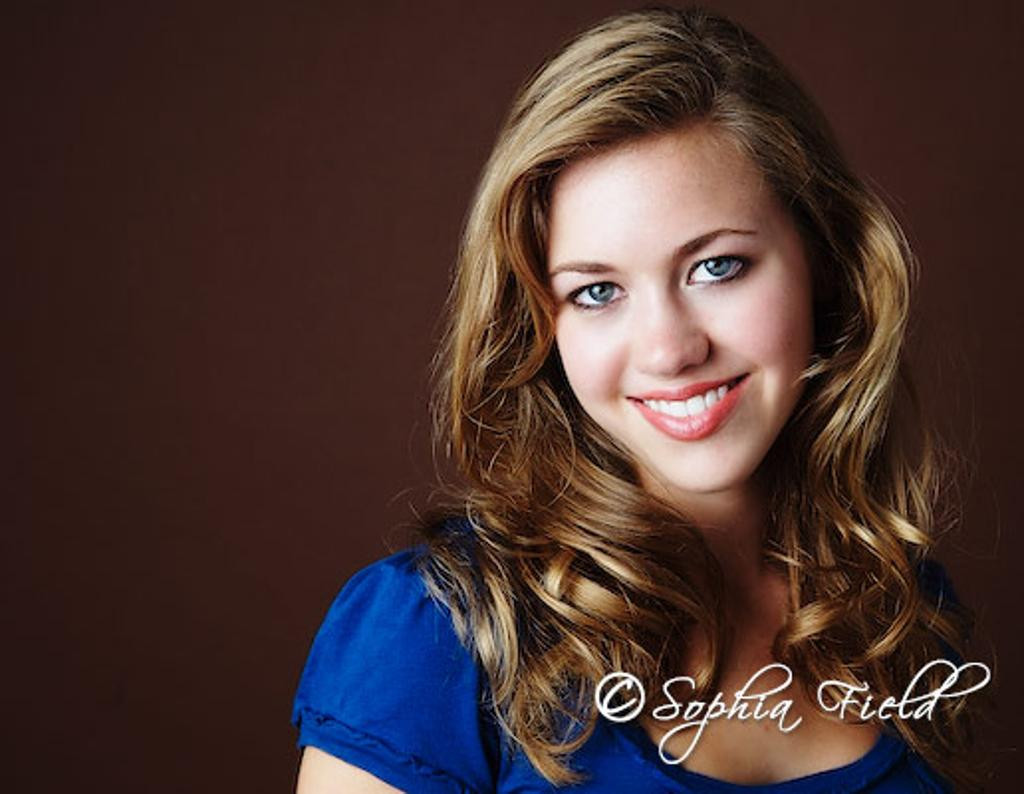face: (544, 162, 800, 492)
